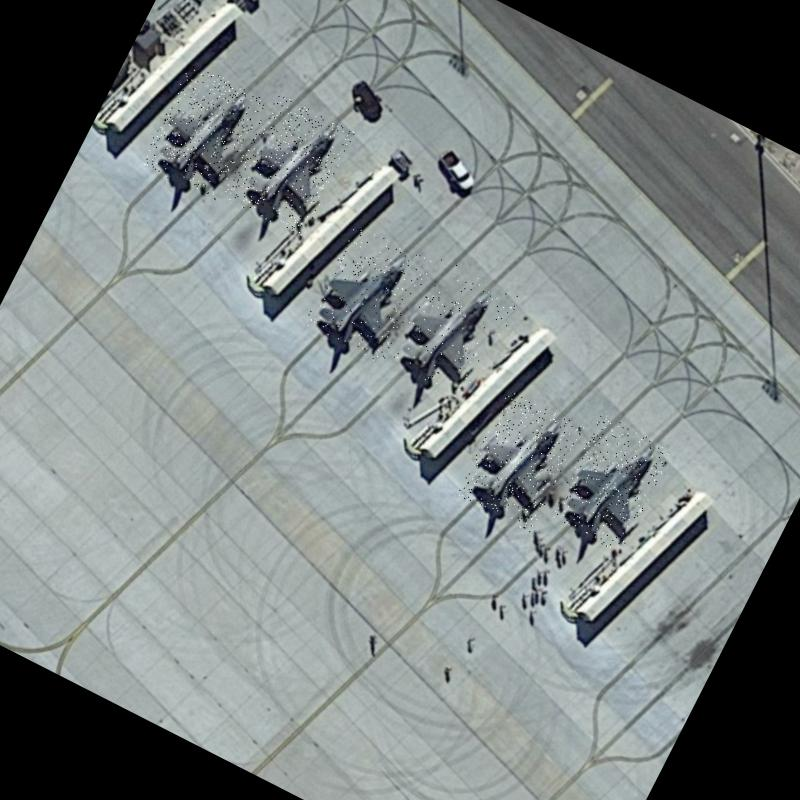A5: (220, 92, 356, 238), (388, 257, 520, 403), (301, 222, 434, 364), (456, 390, 584, 532), (139, 61, 267, 202), (548, 412, 674, 554)
